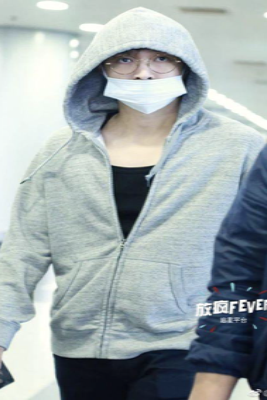mask_weared_incorrect: (98, 50, 187, 114)
